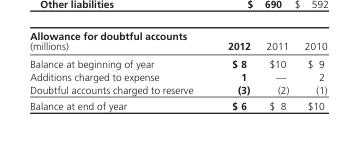table: (29, 29, 326, 111)
table column: (29, 29, 209, 111), (209, 29, 257, 111), (257, 29, 296, 111), (296, 29, 326, 111)
table column header: (29, 29, 326, 54)
table row: (29, 29, 326, 54), (29, 54, 326, 69), (29, 82, 326, 97), (29, 97, 326, 111), (29, 69, 326, 82)
